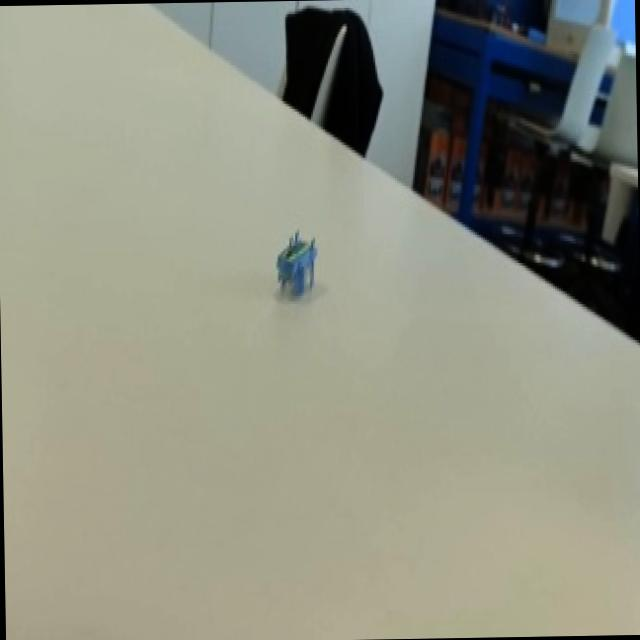3_NanoBug_Celeste: (240, 208, 333, 328)
